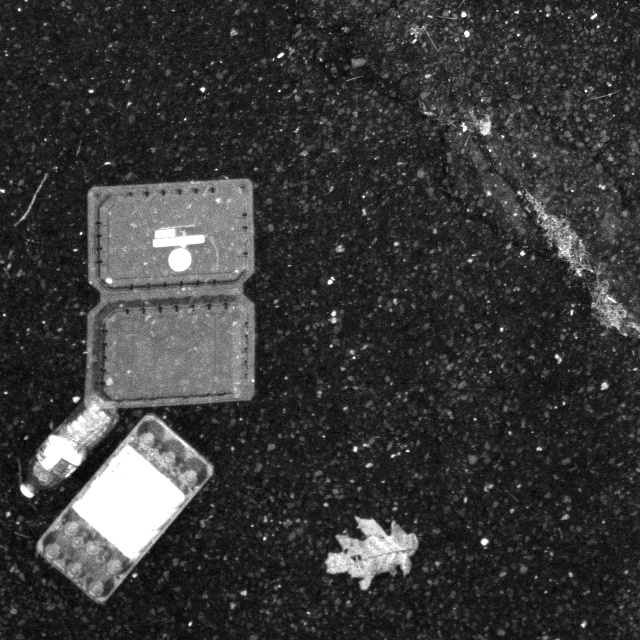bottle: (4, 388, 123, 507)
container: (63, 173, 270, 415), (27, 400, 216, 603)
